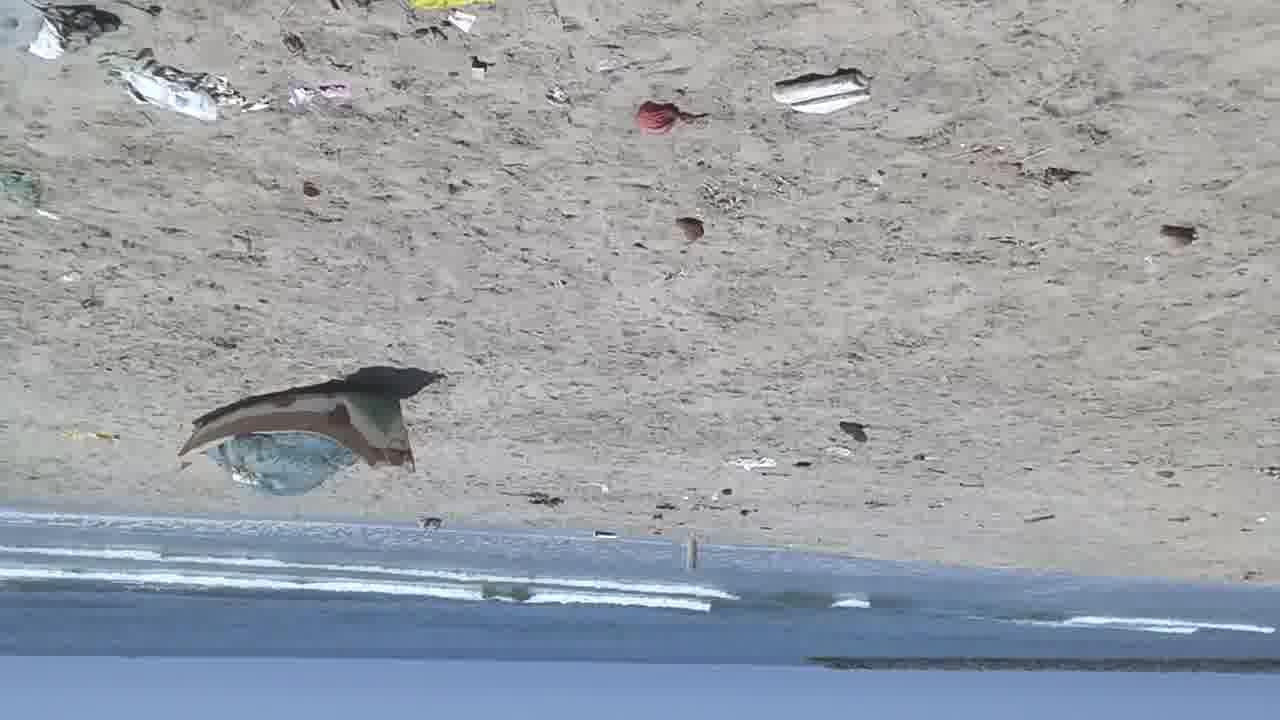large collection of objects: (172, 379, 416, 498), (1158, 223, 1195, 254)
obj: (95, 46, 277, 128), (766, 58, 876, 126), (26, 2, 126, 54), (502, 489, 564, 514), (26, 21, 63, 61), (1031, 168, 1093, 190), (730, 454, 780, 474), (669, 216, 712, 238), (836, 421, 868, 443)
sand/background: (1, 517, 1279, 719)
